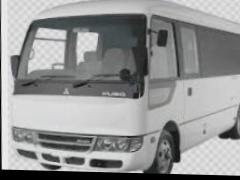bus: (4, 0, 240, 176)
